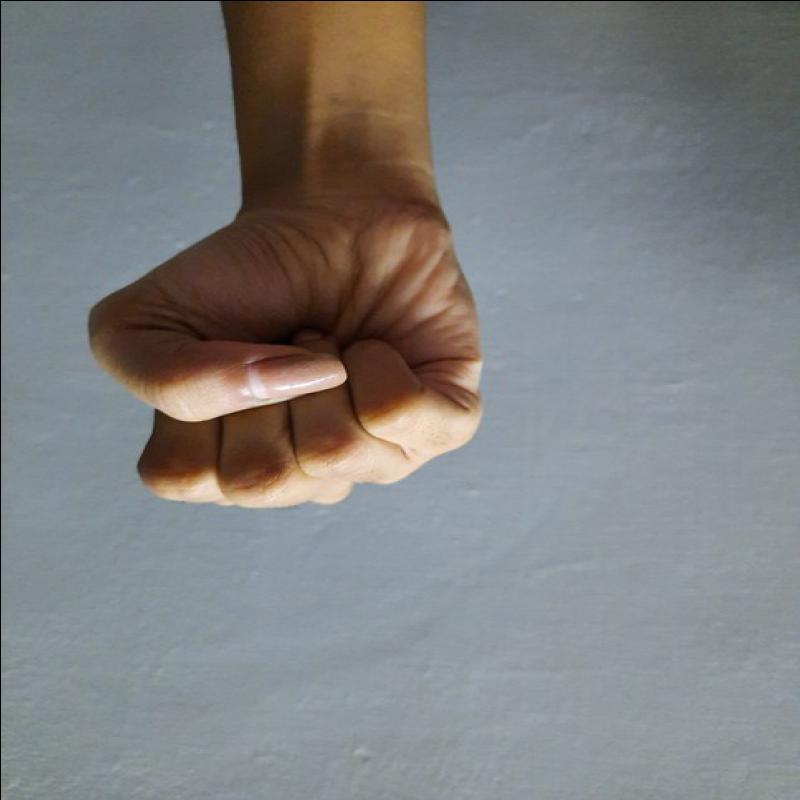Mushti: (78, 153, 506, 552)
